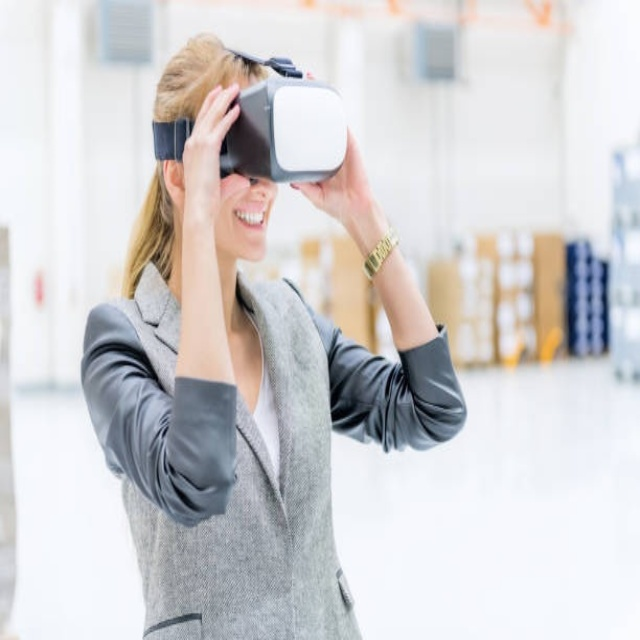Sin_guantes: (176, 80, 251, 237), (288, 124, 378, 220)
Sin_mascara: (227, 193, 271, 256)
